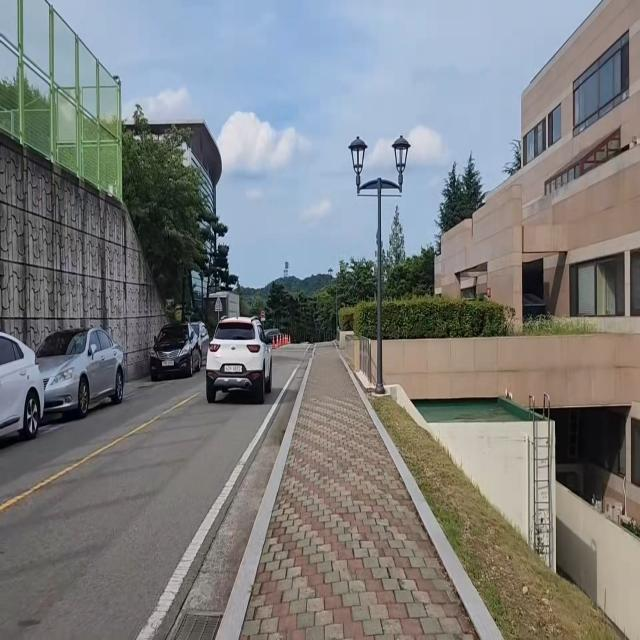obstacle: (32, 323, 132, 441), (0, 324, 52, 464), (202, 311, 277, 404), (142, 310, 214, 391)
road: (0, 345, 312, 640)
sidewalk: (220, 339, 503, 640)
